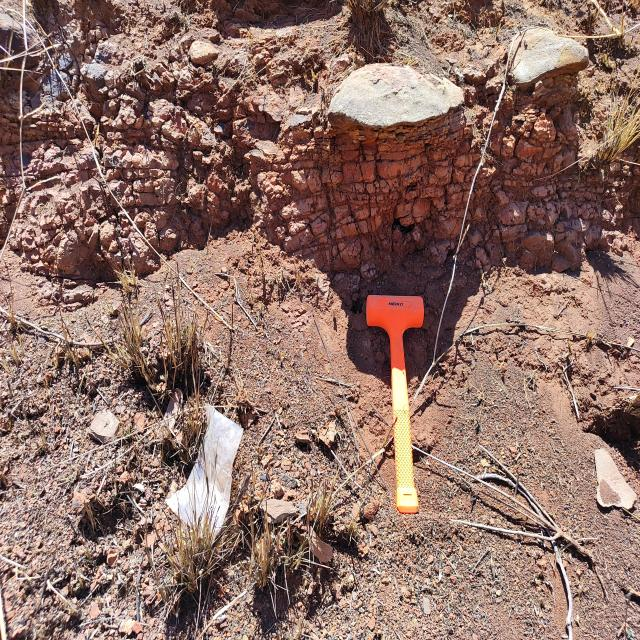Orange_hammer: (364, 293, 424, 514)
